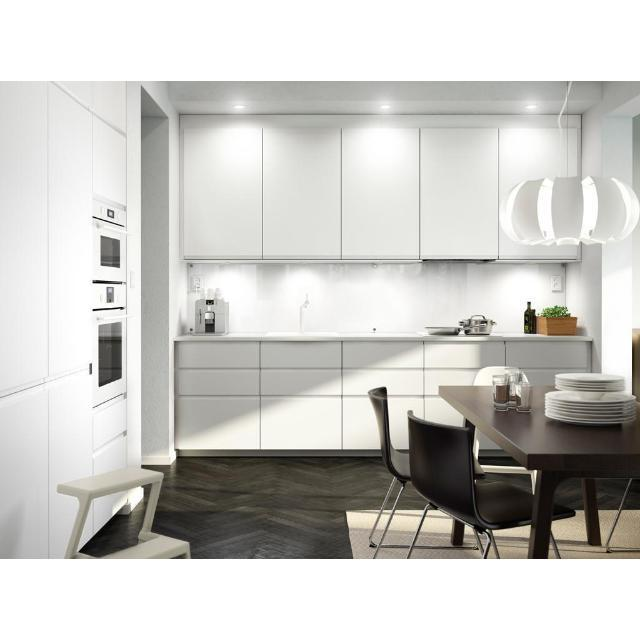chair: (408, 411, 532, 558), (368, 387, 410, 548)
light: (500, 176, 640, 245)
rug: (552, 506, 640, 559), (348, 511, 375, 558), (385, 510, 421, 544), (418, 511, 452, 545), (495, 526, 530, 558), (411, 548, 481, 558), (599, 510, 616, 543), (379, 548, 408, 558), (465, 527, 474, 545)
table: (439, 386, 640, 558), (58, 467, 190, 558)
